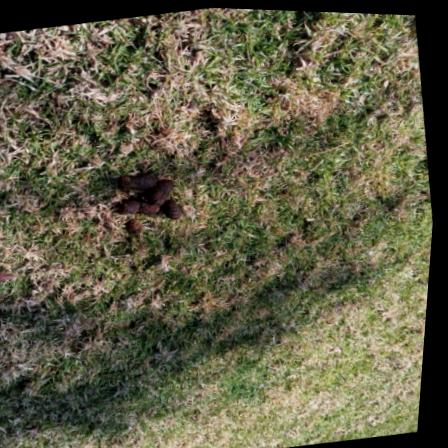dog-poop: (110, 160, 194, 232)
